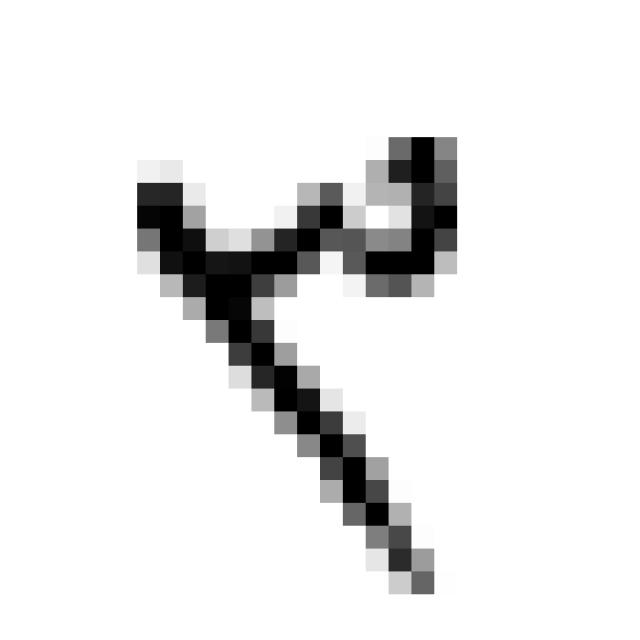3 -three-: (114, 119, 476, 612)
